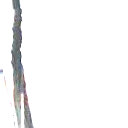crackTip: (9, 1, 38, 128)
